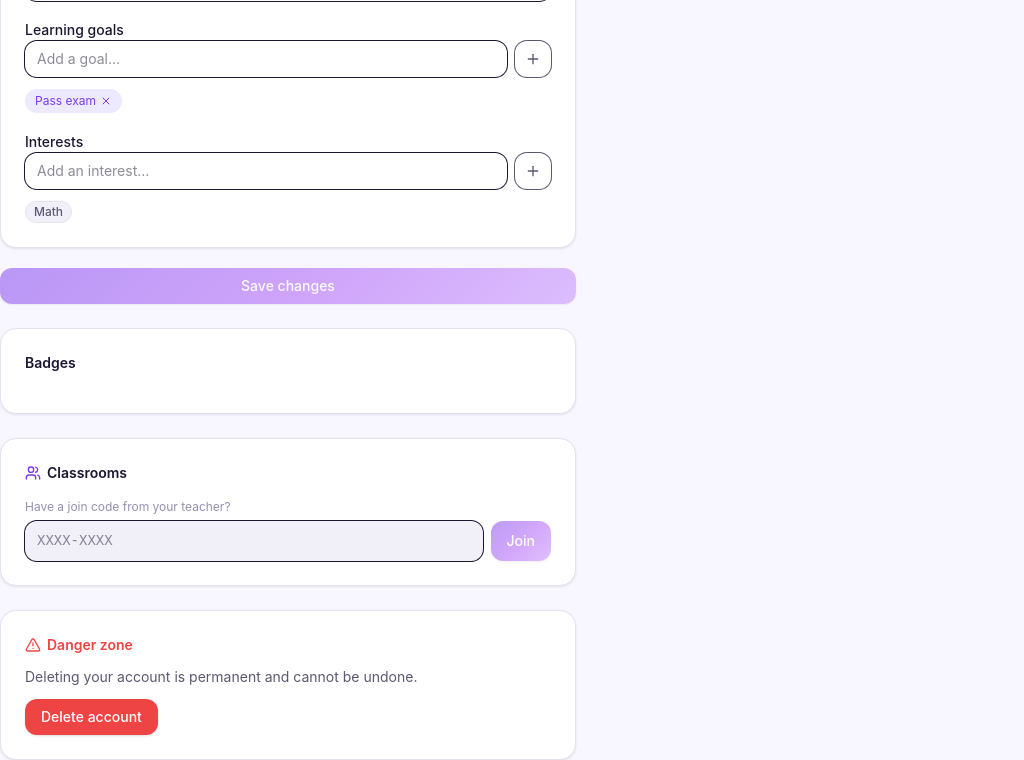
Test: ProfilePage › account deletion › opens the confirm modal when Delete account is clicked
The image size is (1024, 760).
(page scrolled)
Click the button "Delete account" at (91, 717), box [25,699,158,735]
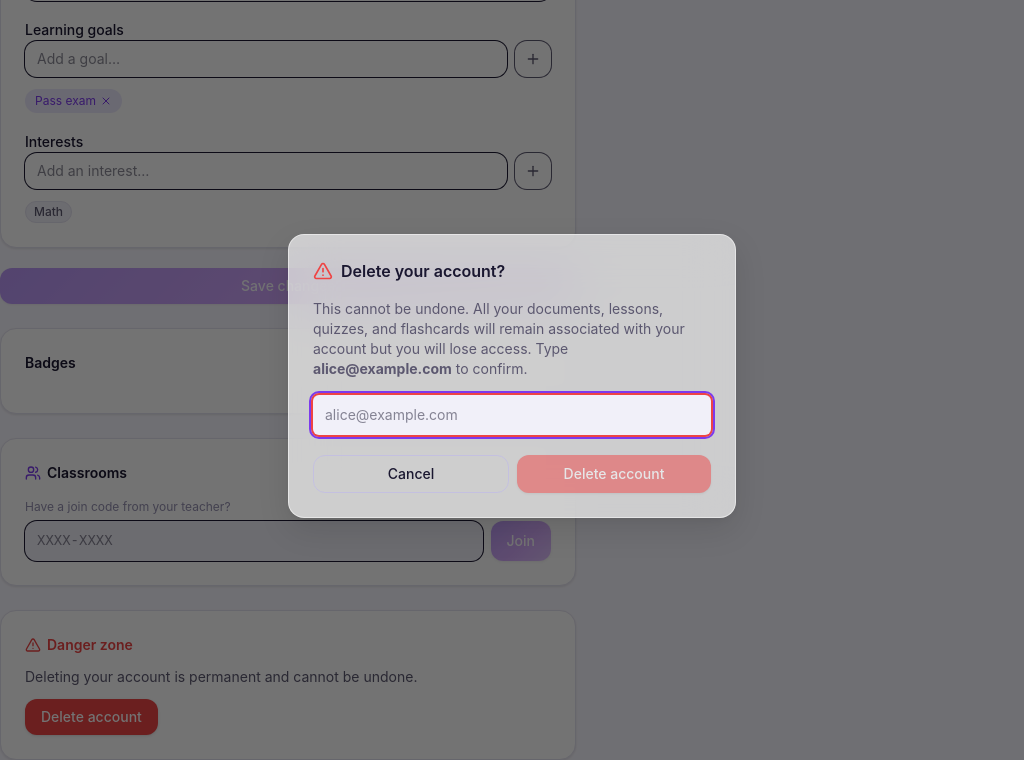
Result: the heading "Delete your account?" is shown at [341,259,505,283]
